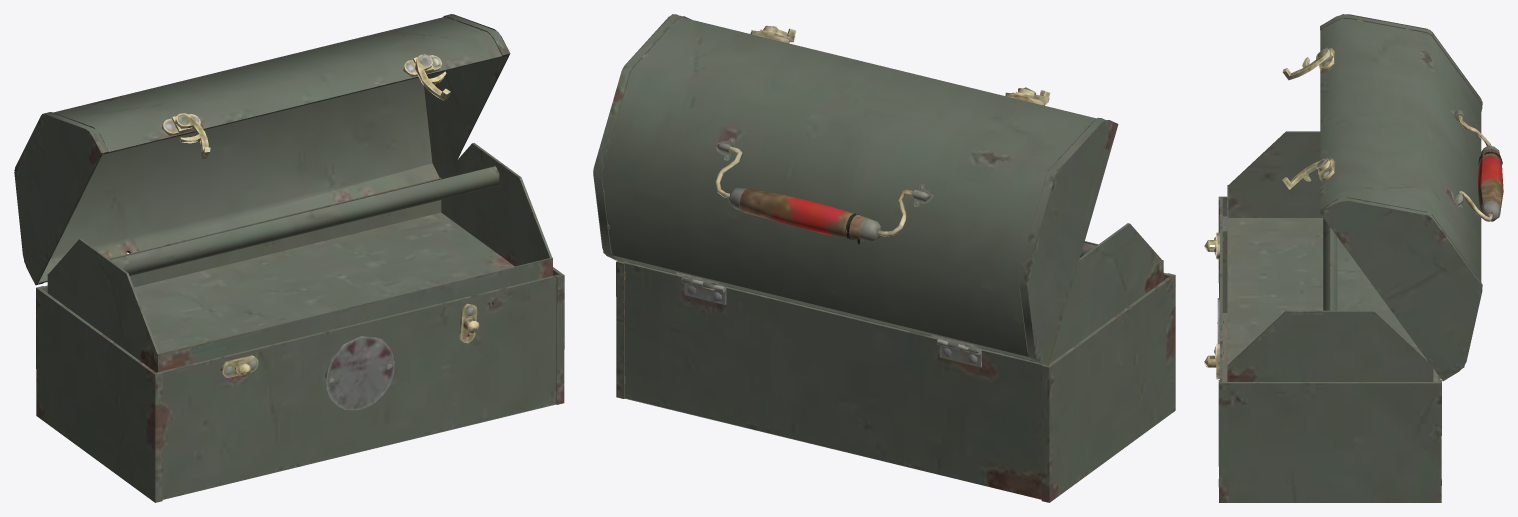
Rendered from toolbox.glb.
The picture shows the model from 3 angles, left to right: view 1: azimuth 30°, elevation 25°; view 2: azimuth 150°, elevation 25°; view 3: azimuth 270°, elevation 25°; orthographic projection. The views are drawn at different scales.
Visible parts, largest first — view 1: toolbox; view 2: toolbox; view 3: toolbox.
Boxes of the visible parts, x1,y1,x2,y2 form: toolbox: [14, 14, 564, 502]; toolbox: [593, 14, 1175, 502]; toolbox: [1204, 14, 1503, 502].
Bounding box in the file's own units: 0.4 × 0.3051 × 0.271.
Materials: 1 (1 with a texture image).
